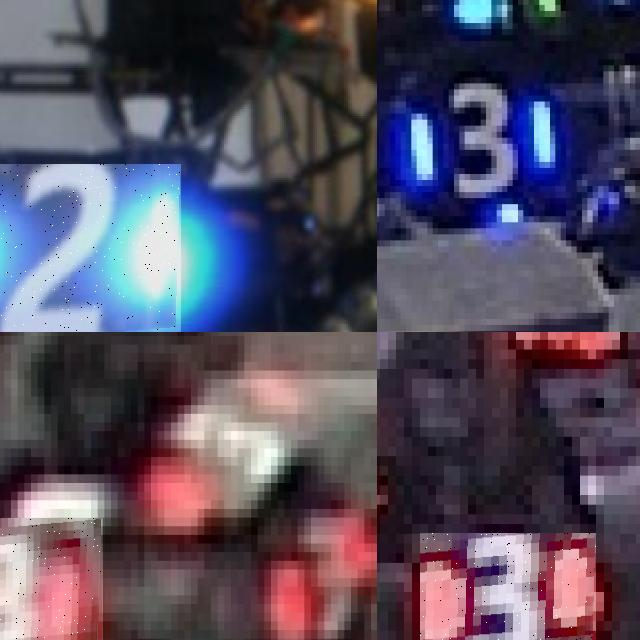B2: (0, 164, 181, 332)
B3: (393, 65, 563, 198)
R3: (420, 533, 596, 640), (0, 517, 104, 640)
